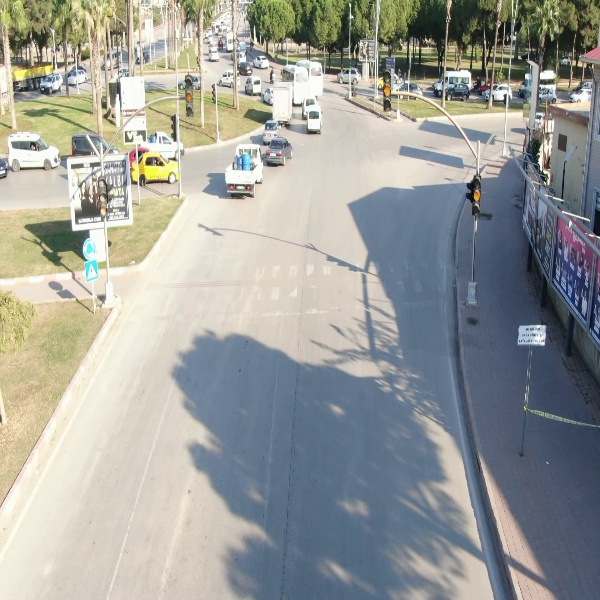car: (4, 130, 64, 175), (128, 150, 188, 189), (262, 134, 297, 171), (438, 80, 472, 106), (334, 63, 365, 90), (483, 80, 515, 106), (304, 103, 326, 137), (64, 65, 93, 87), (39, 72, 65, 96), (218, 68, 244, 90), (260, 120, 284, 143), (243, 75, 263, 99), (250, 53, 273, 72), (205, 49, 220, 65)
